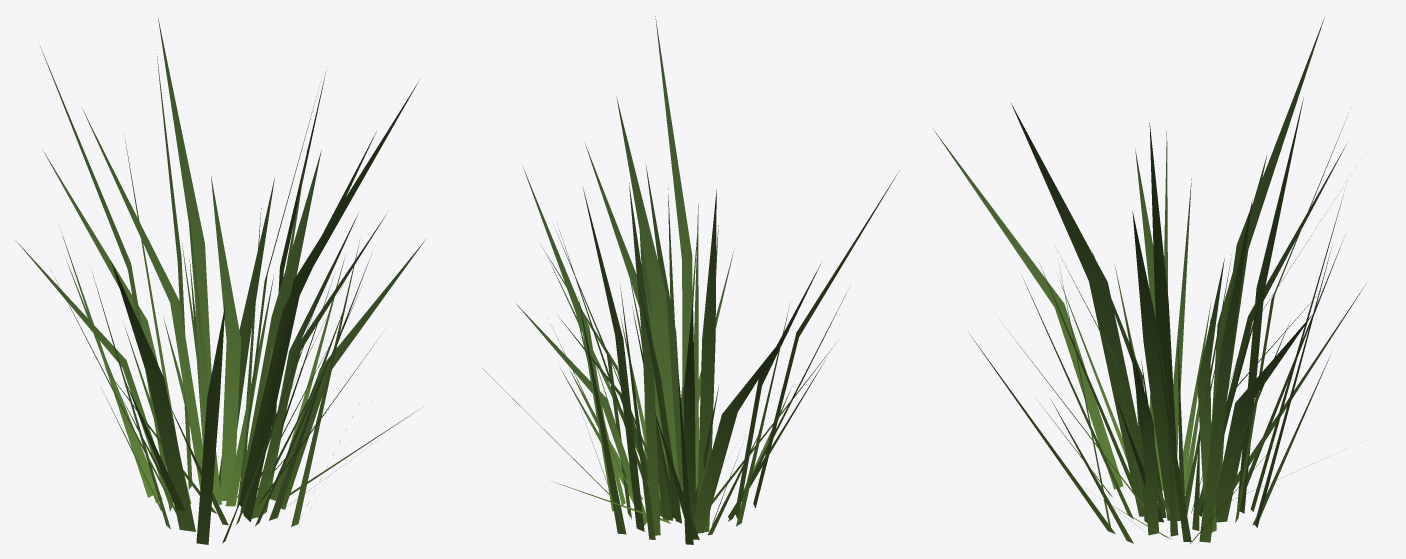
File: forest_grass_001_c_LOD1.gltf
3 views of the same model, side by side, from view 1: azimuth 30°, elevation 25°; view 2: azimuth 150°, elevation 25°; view 3: azimuth 270°, elevation 25° (orthographic). The views are drawn at different scales.
Parts seen in each view (by area): view 1: forest_grass_001_c_LOD1; view 2: forest_grass_001_c_LOD1; view 3: forest_grass_001_c_LOD1.
Boxes of the visible parts, <box> form: forest_grass_001_c_LOD1: <box>15,17,425,544</box>; forest_grass_001_c_LOD1: <box>482,16,899,544</box>; forest_grass_001_c_LOD1: <box>933,17,1366,544</box>.
Bounding box in the file's own units: 0.7829 × 0.9524 × 0.8506.
Materials: 1 (1 with a texture image).
